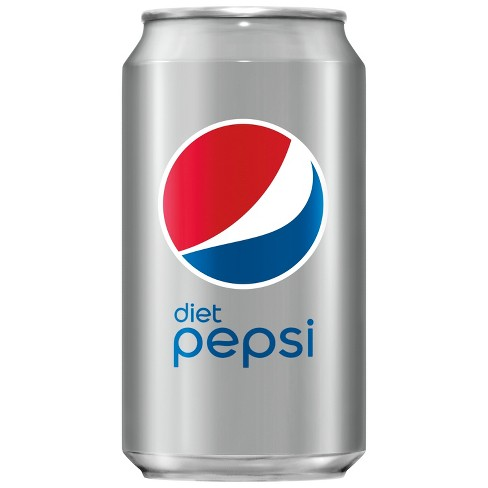pepsi: (163, 122, 326, 283)
